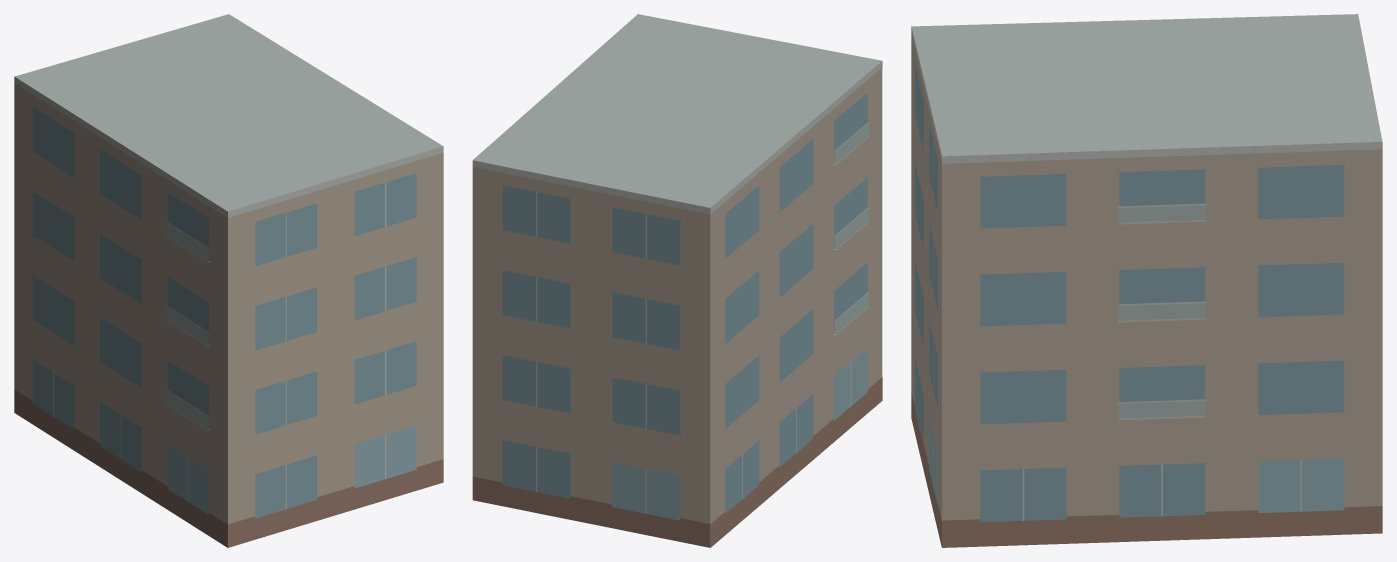
The model's file is survey-upis-32971912.glb.
3 renders of one model, left to right at view 1: azimuth 30°, elevation 25°; view 2: azimuth 150°, elevation 25°; view 3: azimuth 270°, elevation 25°, orthographic. The views are drawn at different scales.
Visible parts, largest first — view 1: survey-upis-32971912.tmp; view 2: survey-upis-32971912.tmp; view 3: survey-upis-32971912.tmp.
Part boxes in pixels (bbox=[...]): survey-upis-32971912.tmp: bbox=[14, 14, 443, 547]; survey-upis-32971912.tmp: bbox=[472, 14, 882, 547]; survey-upis-32971912.tmp: bbox=[911, 14, 1382, 547].
Size of the model in its own units: 9.99 by 12.8 by 13.97.
